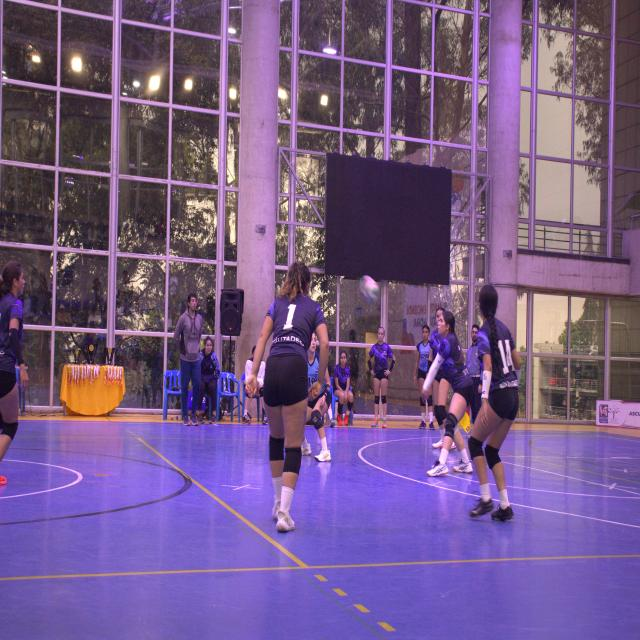volleyball: (358, 276, 380, 304)
